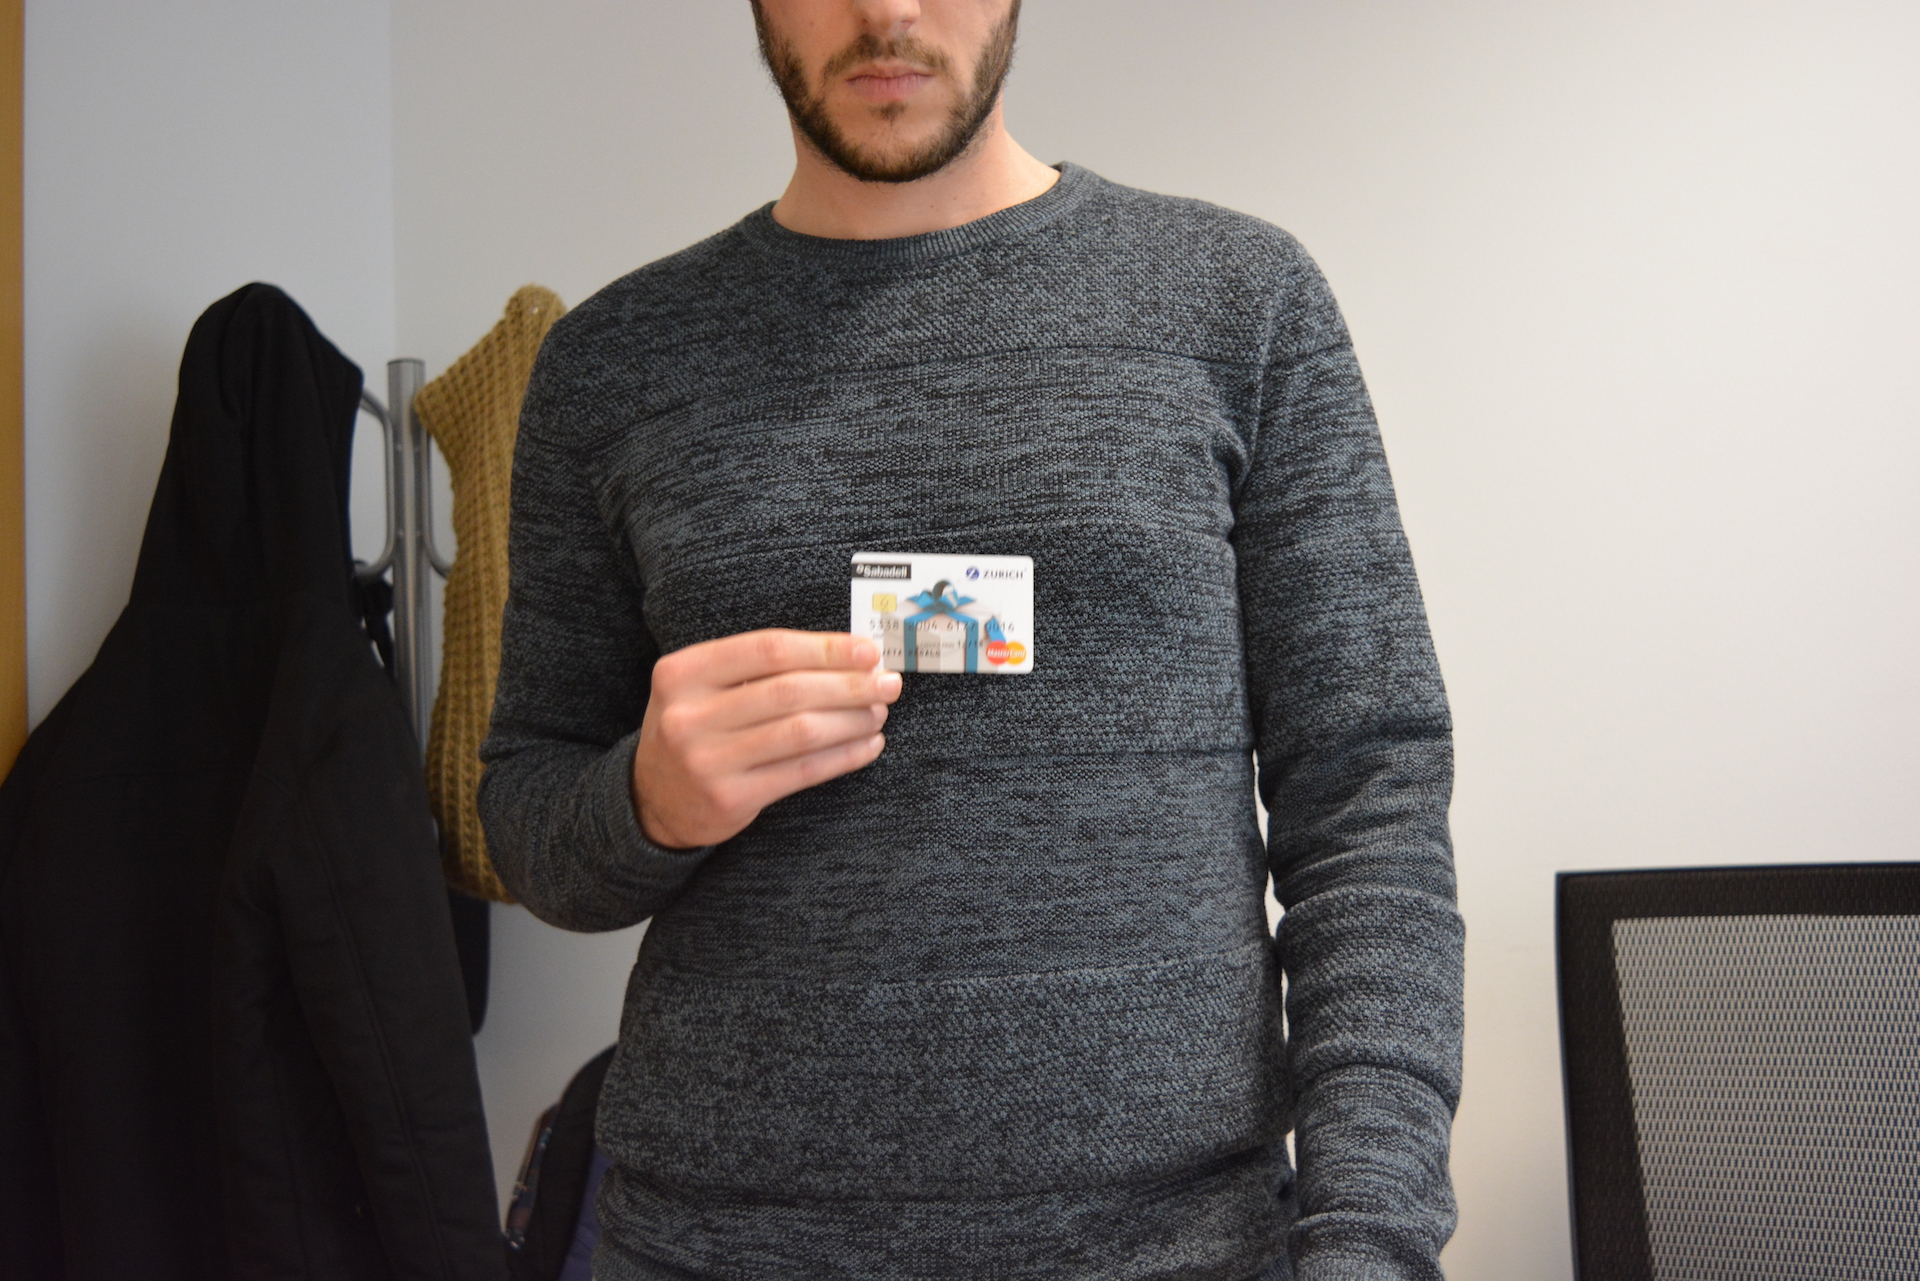tarjeta: (849, 550, 1036, 673)
